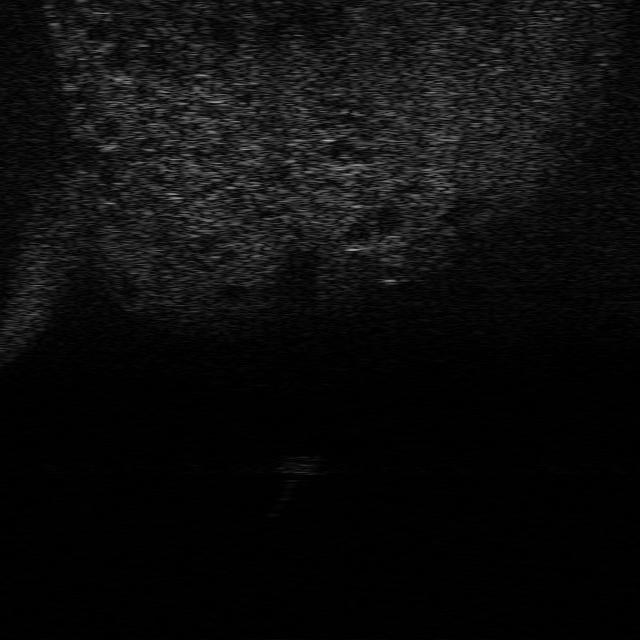cube: (275, 452, 323, 476)
